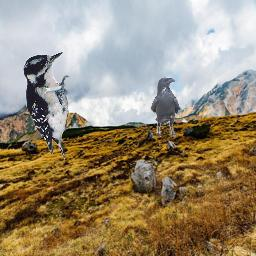Crow: (150, 77, 181, 137)
Woodpecker: (23, 52, 71, 162)
